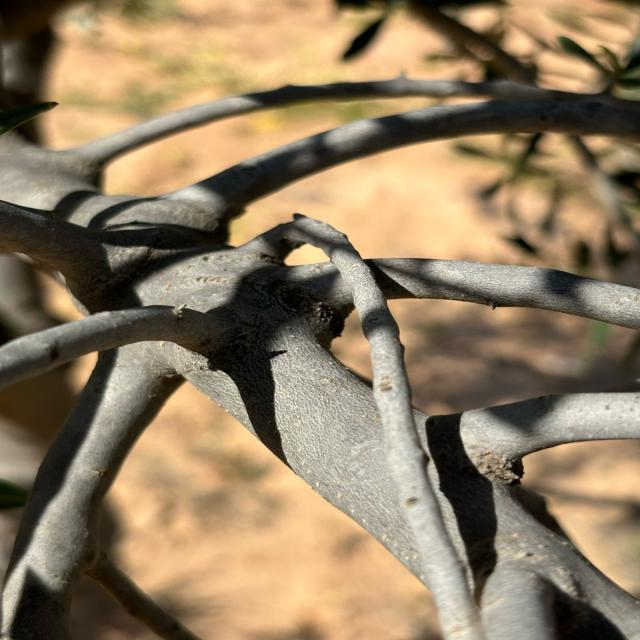Healthy: (294, 215, 482, 640), (0, 344, 196, 640), (0, 305, 177, 391), (425, 260, 639, 330), (460, 392, 639, 466)
